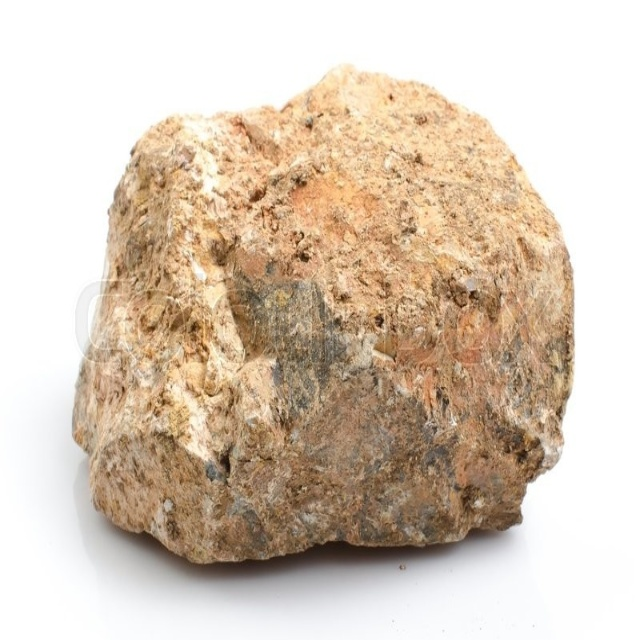obstacle: (73, 67, 573, 562)
